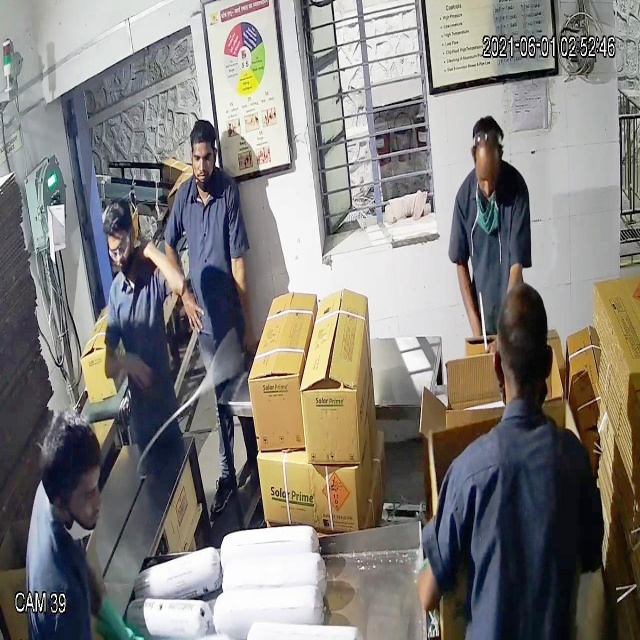Gafas: (103, 228, 136, 267)
Sin_gafas: (186, 143, 223, 172)
